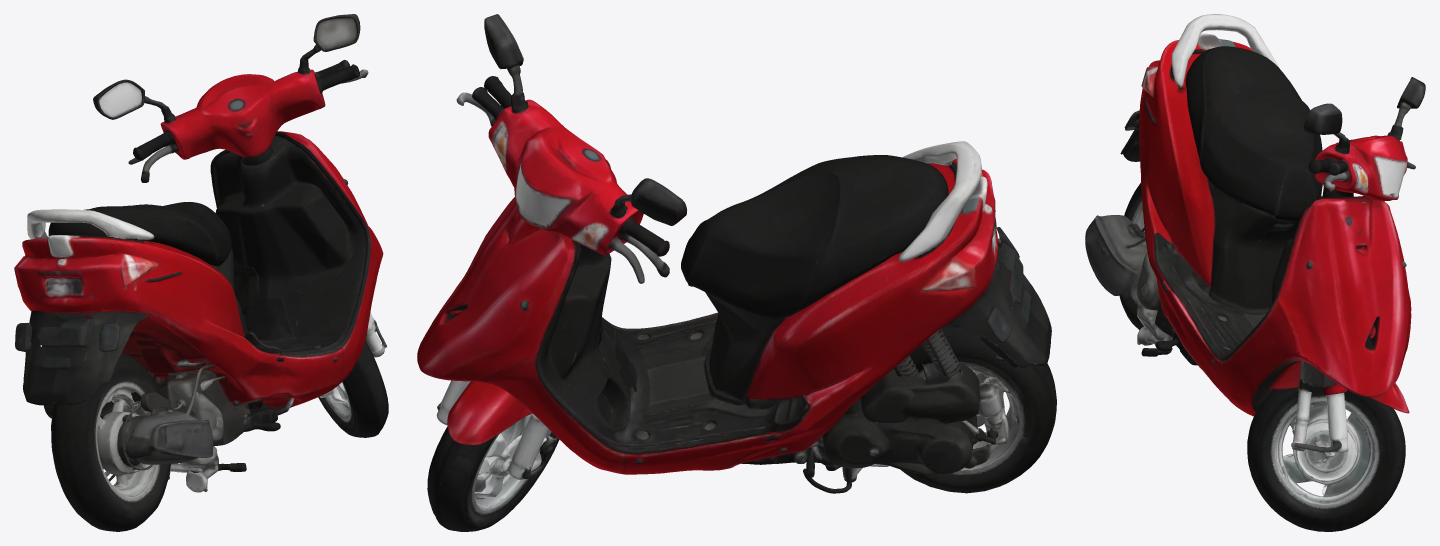
The model's file is pixal3d.glb.
3 renders of one model, left to right at view 1: azimuth 30°, elevation 25°; view 2: azimuth 150°, elevation 25°; view 3: azimuth 270°, elevation 25°, orthographic. The views are drawn at different scales.
Visible parts, largest first — view 1: world; view 2: world; view 3: world.
Boxes of the visible parts, x1=… form: world: x1=14, y1=14, x2=388, y2=531; world: x1=417, y1=14, x2=1056, y2=531; world: x1=1085, y1=14, x2=1425, y2=531.
Bounding box in the file's own units: 0.9142 × 0.853 × 0.6328.
Materials: 1 (1 with a texture image).
